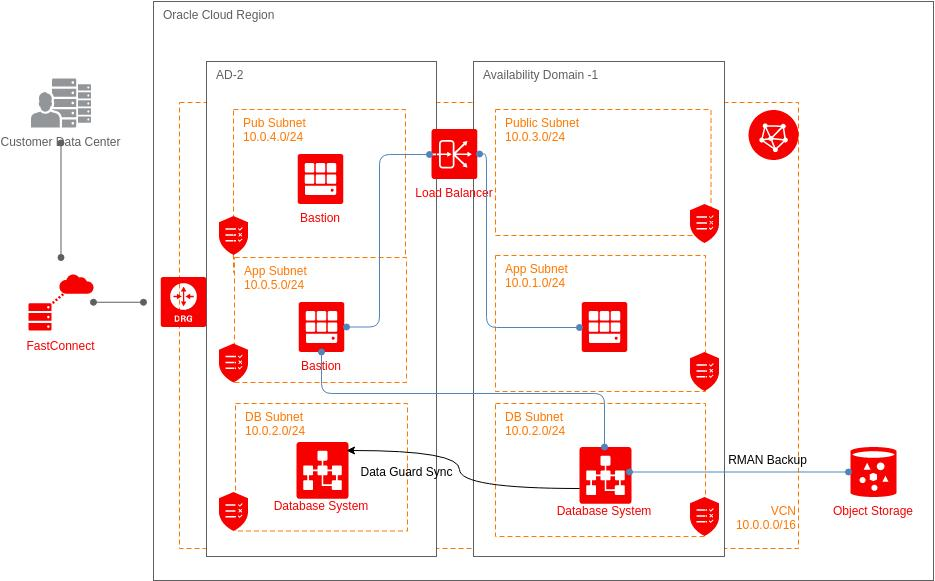Backend: (296, 301, 345, 356), (583, 302, 629, 347), (298, 156, 340, 202)
Database: (298, 444, 348, 495), (580, 448, 631, 495)
Load Balancer: (434, 129, 475, 172)
Networking: (160, 282, 205, 317)
Storage: (848, 447, 904, 498)
